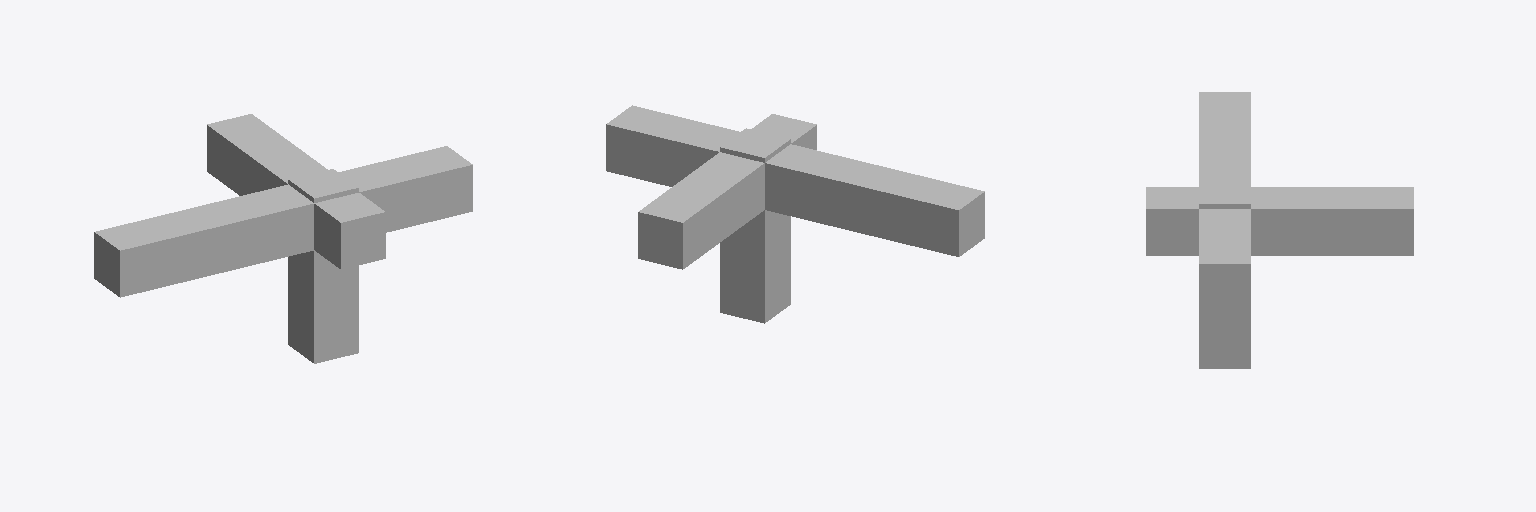
File: balls.obj
3 views of the same model, side by side, from view 1: azimuth 30°, elevation 25°; view 2: azimuth 150°, elevation 25°; view 3: azimuth 270°, elevation 25° (orthographic).
Visible parts, largest first — view 1: Cube_Cube.001; view 2: Cube_Cube.001; view 3: Cube_Cube.001.
Part boxes in pixels (x1,y1,x2,y2): Cube_Cube.001: (94, 114, 472, 363); Cube_Cube.001: (606, 105, 984, 323); Cube_Cube.001: (1146, 92, 1413, 368).
Size of the model in its own units: 15.74 by 7.05 by 10.38.